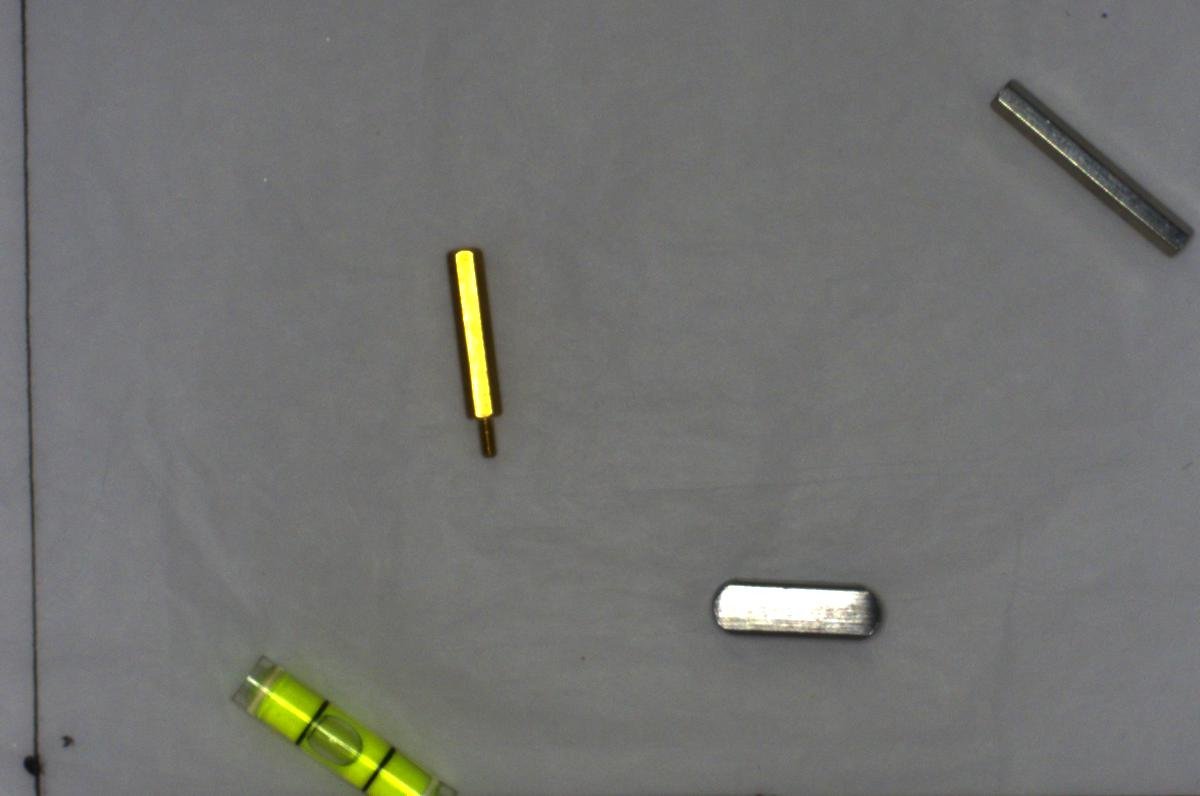Double hexagonal column: (987, 76, 1192, 250)
Hexagon pillar: (446, 240, 507, 465)
Horizontal bubble: (225, 654, 454, 795)
Keybar: (710, 573, 887, 647)
